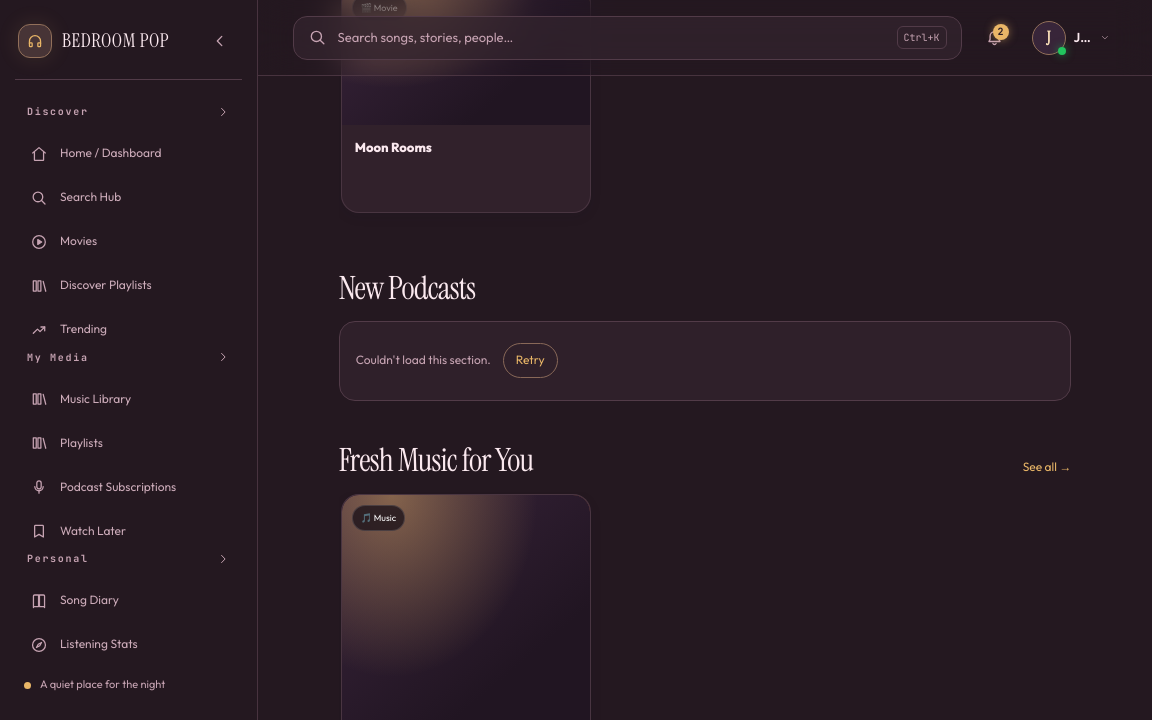
Test: discovery home and shelf › renders the discovery shelves in order and isolates a failed section
(page scrolled)
Expected: the text "Couldn't load this section." is shown, 356,351 -> 491,370
Click the button "Retry".
click(530, 361)  # box 503,343 -> 558,378
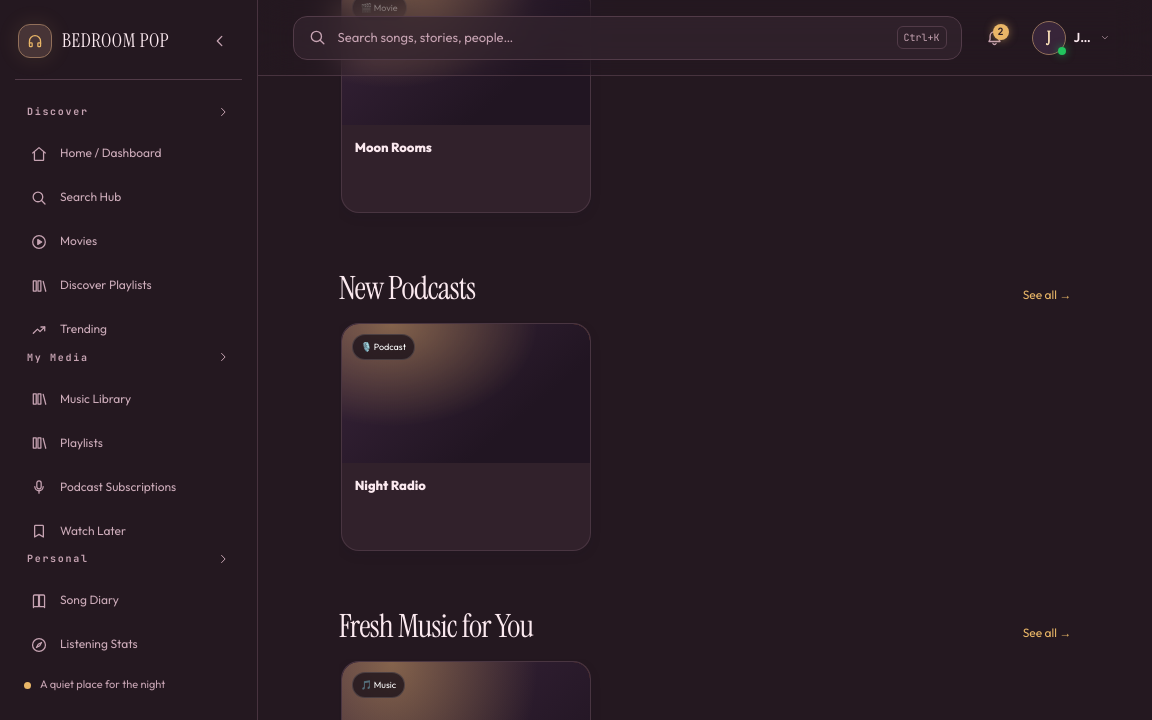
Expected: the link "Night Radio" is shown, 355,477 -> 426,493
